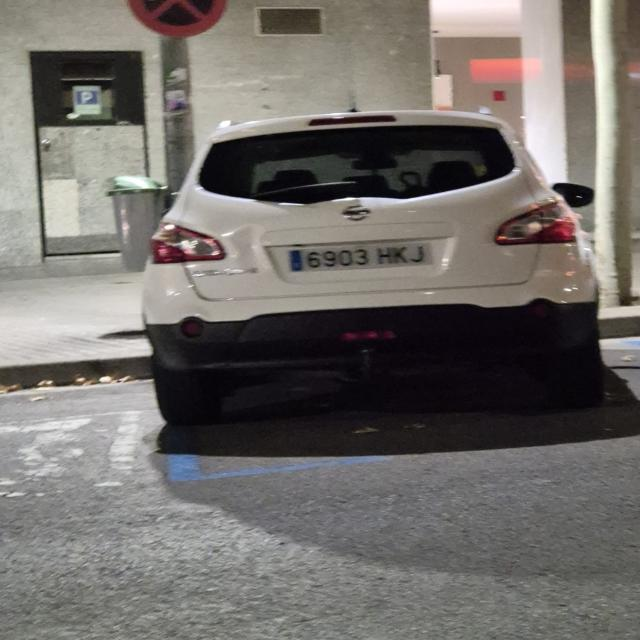license_plate-34Td: (288, 242, 433, 272)
